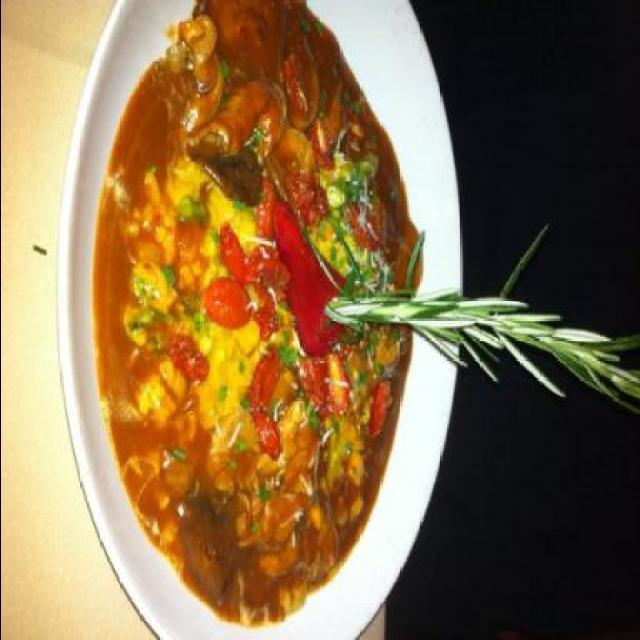Risotto: (115, 54, 414, 558)
